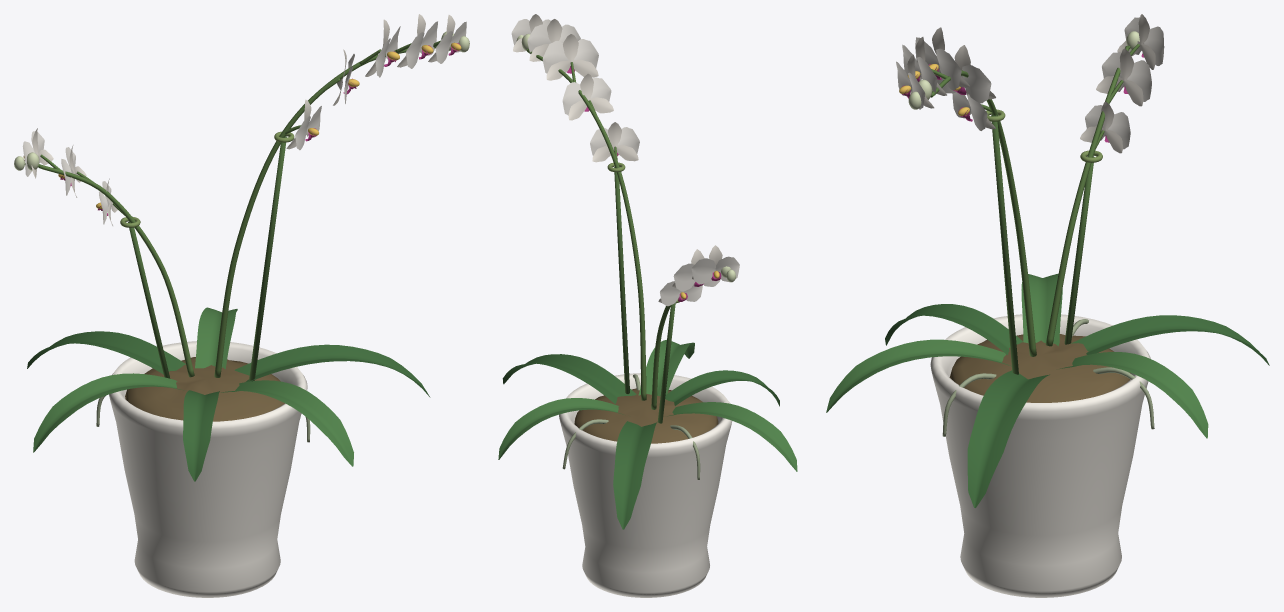
File: orchid.glb
The picture shows the model from 3 angles, left to right: view 1: azimuth 30°, elevation 25°; view 2: azimuth 150°, elevation 25°; view 3: azimuth 270°, elevation 25°; orthographic projection. The views are drawn at different scales.
Parts seen in each view (by area): view 1: orchid_pot, orchid_leaf_a, orchid_leaf_b, orchid_moss, orchid_stem, orchid_petal, orchid_stake, orchid_sepal; view 2: orchid_pot, orchid_leaf_a, orchid_petal, orchid_leaf_b, orchid_moss, orchid_sepal, orchid_stem, orchid_stake, orchid_root; view 3: orchid_pot, orchid_leaf_a, orchid_leaf_b, orchid_moss, orchid_petal, orchid_stem, orchid_sepal, orchid_stake, orchid_root.
Part boxes in pixels (x1,y1,x2,y2): orchid_pot: (109,341,307,597); orchid_leaf_a: (27,331,430,481); orchid_leaf_b: (33,307,353,466); orchid_moss: (125,357,284,421); orchid_stem: (24,40,440,377); orchid_petal: (22,21,466,224); orchid_stake: (128,136,286,381); orchid_sepal: (31,14,455,225); orchid_pot: (559,373,732,597); orchid_leaf_a: (502,354,779,529); orchid_petal: (511,19,739,306); orchid_leaf_b: (498,340,797,471); orchid_moss: (574,388,718,443); orchid_sepal: (513,14,722,302); orchid_stem: (526,49,670,409); orchid_stake: (614,167,675,423); orchid_root: (562,374,700,479); orchid_pot: (930,314,1150,597); orchid_leaf_a: (885,304,1269,507); orchid_leaf_b: (826,273,1208,438); orchid_moss: (949,334,1130,402); orchid_petal: (896,17,1164,149); orchid_stem: (930,44,1139,356); orchid_sepal: (907,14,1155,153); orchid_stake: (991,115,1094,374); orchid_root: (942,319,1154,436).
Bounding box in the file's own units: 0.6176 × 0.8625 × 0.5649.
